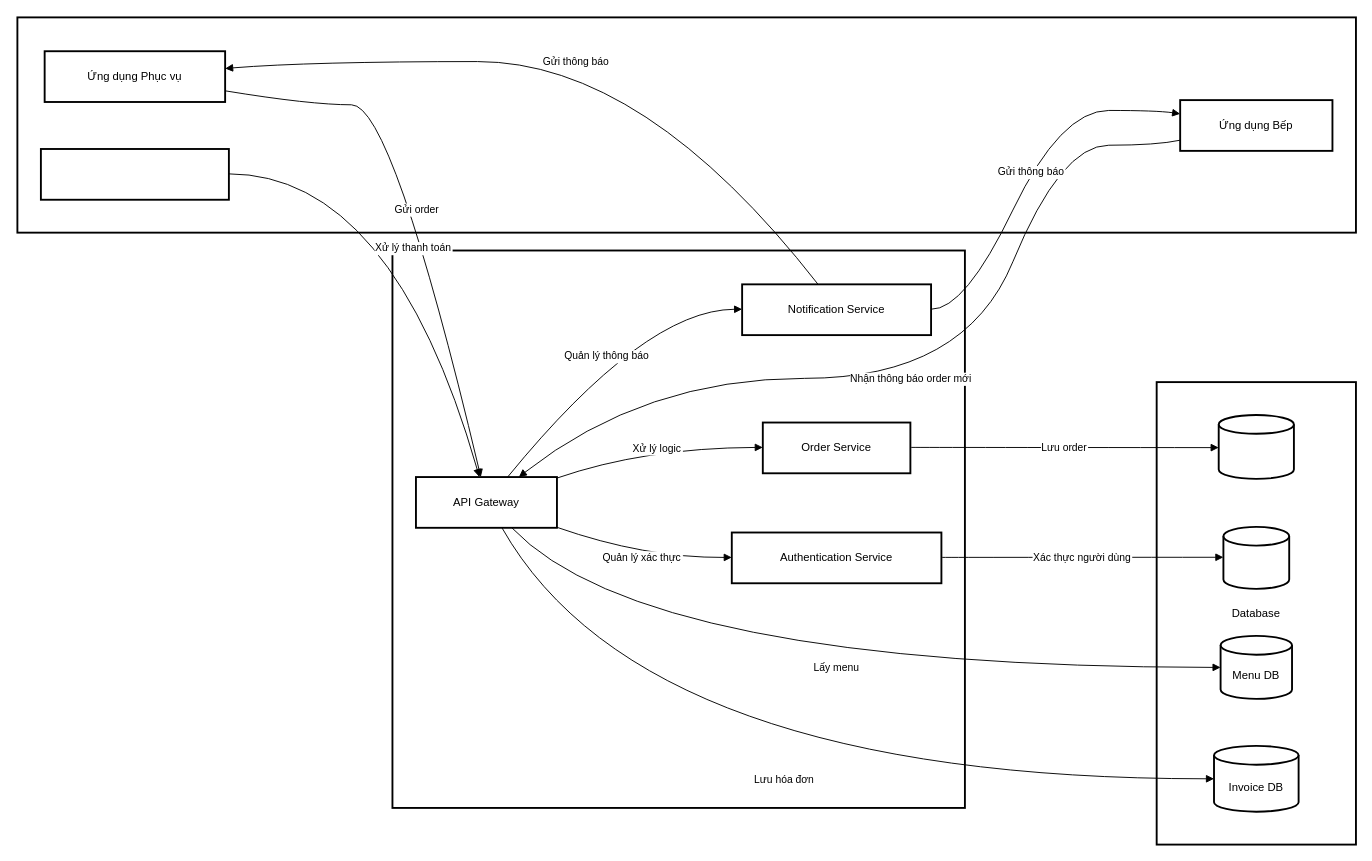
Image size: 1372x861. Some labels were removed from this diagram. Here are the shapes that lost their labels. From the top down, the box of each, then its label:
(16, 16, 1356, 233): Frontend
(39, 148, 229, 200): Ứng dụng Thu ngân
(1217, 414, 1294, 479): Order DB
(391, 249, 965, 808): Backend
(1222, 525, 1290, 589): User DB
